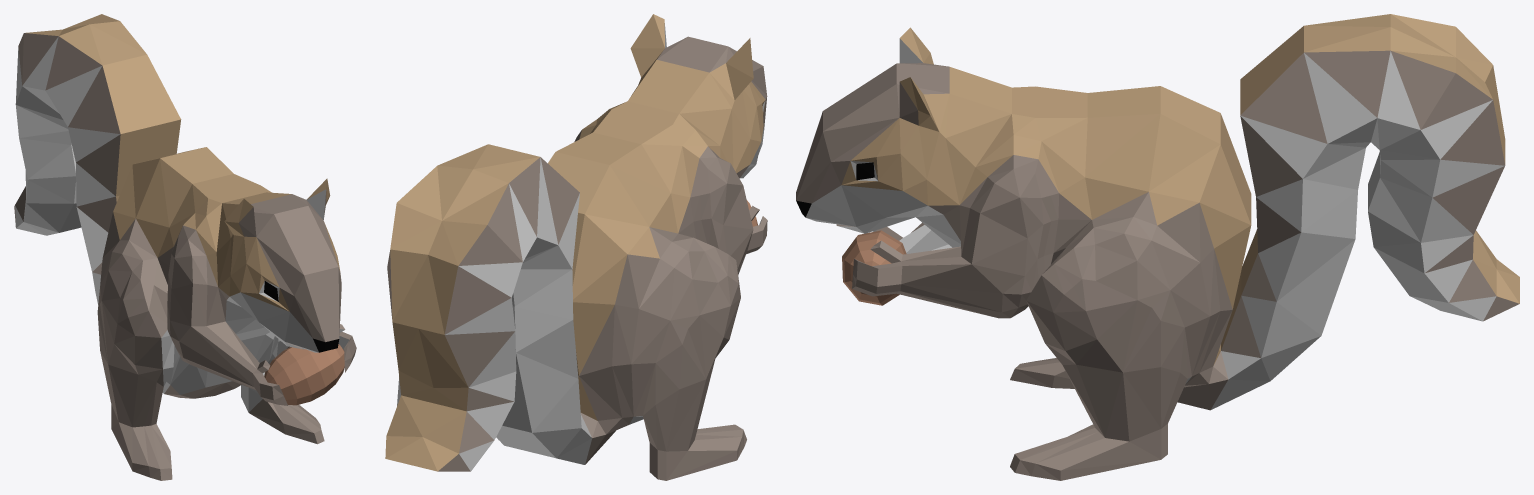
The model's file is squirrel_coloured.fbx.
3 views of the same model, side by side, from view 1: azimuth 30°, elevation 25°; view 2: azimuth 150°, elevation 25°; view 3: azimuth 270°, elevation 25° (orthographic). The views are drawn at different scales.
Visible parts, largest first — view 1: squirrel_coloured:pSphere3; view 2: squirrel_coloured:pSphere3; view 3: squirrel_coloured:pSphere3.
Part boxes in pixels (x1,y1,x2,y2): squirrel_coloured:pSphere3: [14, 14, 356, 480]; squirrel_coloured:pSphere3: [385, 14, 767, 480]; squirrel_coloured:pSphere3: [796, 14, 1519, 480].
Size of the model in its own units: 5.97 by 9.63 by 15.83.
